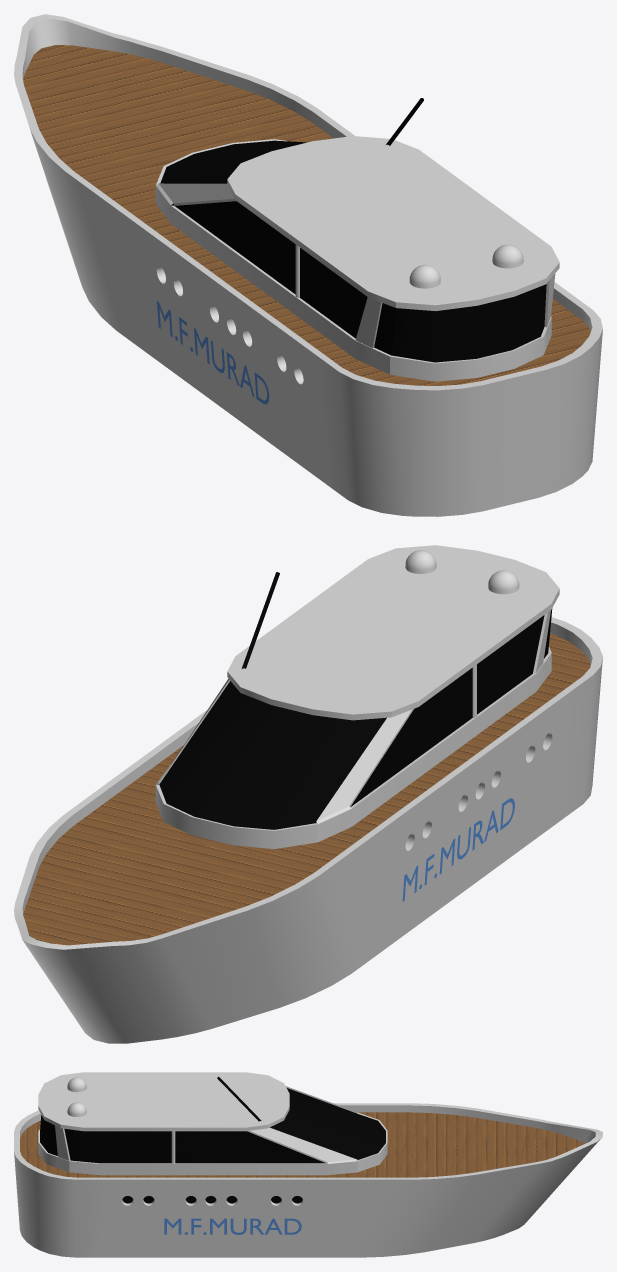
Rendered from yacht_v1_Combined.fbx.
3 renders of one model, top to bottom at view 1: azimuth 30°, elevation 25°; view 2: azimuth 150°, elevation 25°; view 3: azimuth 270°, elevation 25°, orthographic. The views are drawn at different scales.
Visible parts, largest first — view 1: Plane.001, Text; view 2: Plane.001, Text; view 3: Plane.001, Text.001.
Part boxes in pixels (<box>): Plane.001: <box>14,14,602,516</box>; Text: <box>157,301,269,404</box>; Plane.001: <box>14,545,602,1043</box>; Text: <box>402,798,514,901</box>; Plane.001: <box>14,1072,602,1257</box>; Text.001: <box>164,1218,301,1234</box>.
Size of the model in its own units: 216 by 220 by 703.
4 materials, 1 textured.
